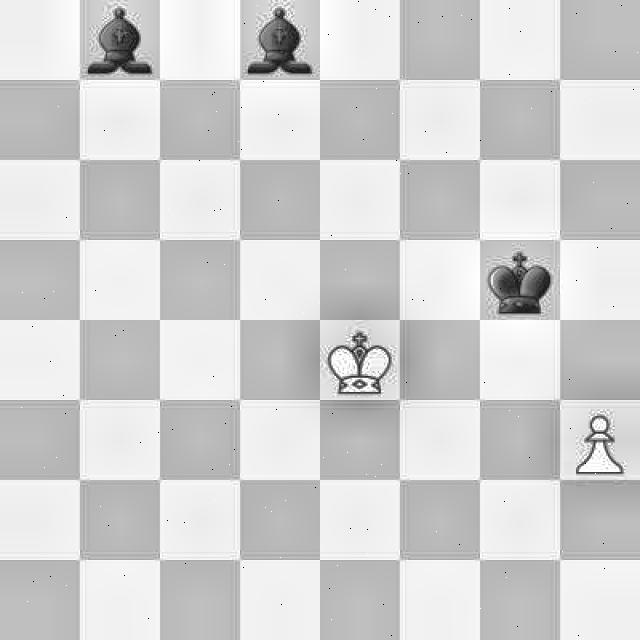black bishop: (78, 0, 158, 79), (240, 1, 318, 78)
black king: (480, 241, 560, 321)
white king: (320, 319, 402, 402)
white pawn: (561, 400, 640, 483)
